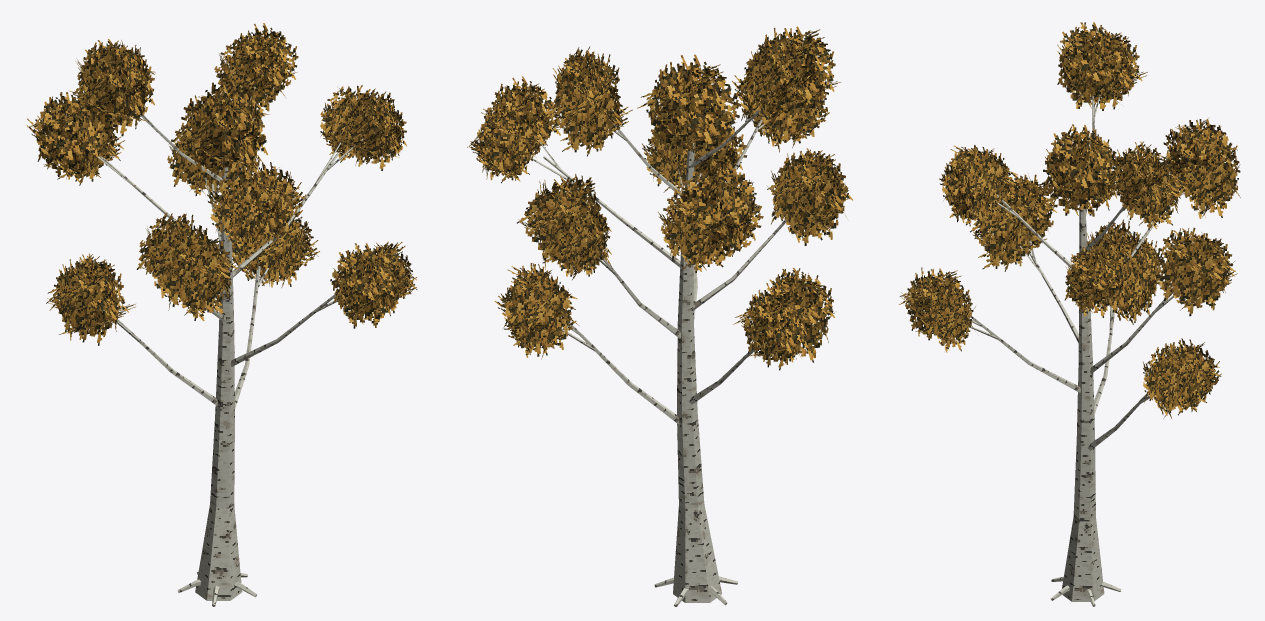
The model's file is TREE_Birch_Autumn_B_LOD1.glb.
The picture shows the model from 3 angles, left to right: view 1: azimuth 30°, elevation 25°; view 2: azimuth 150°, elevation 25°; view 3: azimuth 270°, elevation 25°; orthographic projection. The views are drawn at different scales.
Visible parts, largest first — view 1: TREE_Birch_Autumn_B_LOD1__Card, TREE_Birch_Autumn_B_LOD1__Bark, TREE_Birch_Autumn_B_LOD1__Foliage; view 2: TREE_Birch_Autumn_B_LOD1__Card, TREE_Birch_Autumn_B_LOD1__Bark, TREE_Birch_Autumn_B_LOD1__Foliage; view 3: TREE_Birch_Autumn_B_LOD1__Card, TREE_Birch_Autumn_B_LOD1__Bark, TREE_Birch_Autumn_B_LOD1__Foliage.
Boxes of the visible parts, bbox=[...] form: TREE_Birch_Autumn_B_LOD1__Card: bbox=[27, 23, 417, 345]; TREE_Birch_Autumn_B_LOD1__Bark: bbox=[90, 87, 363, 606]; TREE_Birch_Autumn_B_LOD1__Foliage: bbox=[56, 50, 396, 317]; TREE_Birch_Autumn_B_LOD1__Card: bbox=[467, 26, 852, 370]; TREE_Birch_Autumn_B_LOD1__Bark: bbox=[530, 108, 787, 606]; TREE_Birch_Autumn_B_LOD1__Foliage: bbox=[493, 70, 822, 342]; TREE_Birch_Autumn_B_LOD1__Card: bbox=[899, 22, 1240, 418]; TREE_Birch_Autumn_B_LOD1__Bark: bbox=[963, 94, 1184, 606]; TREE_Birch_Autumn_B_LOD1__Foliage: bbox=[925, 57, 1222, 392].
Bounding box in the file's own units: 6.99 × 10.55 × 6.53.
3 materials, 3 textured.
